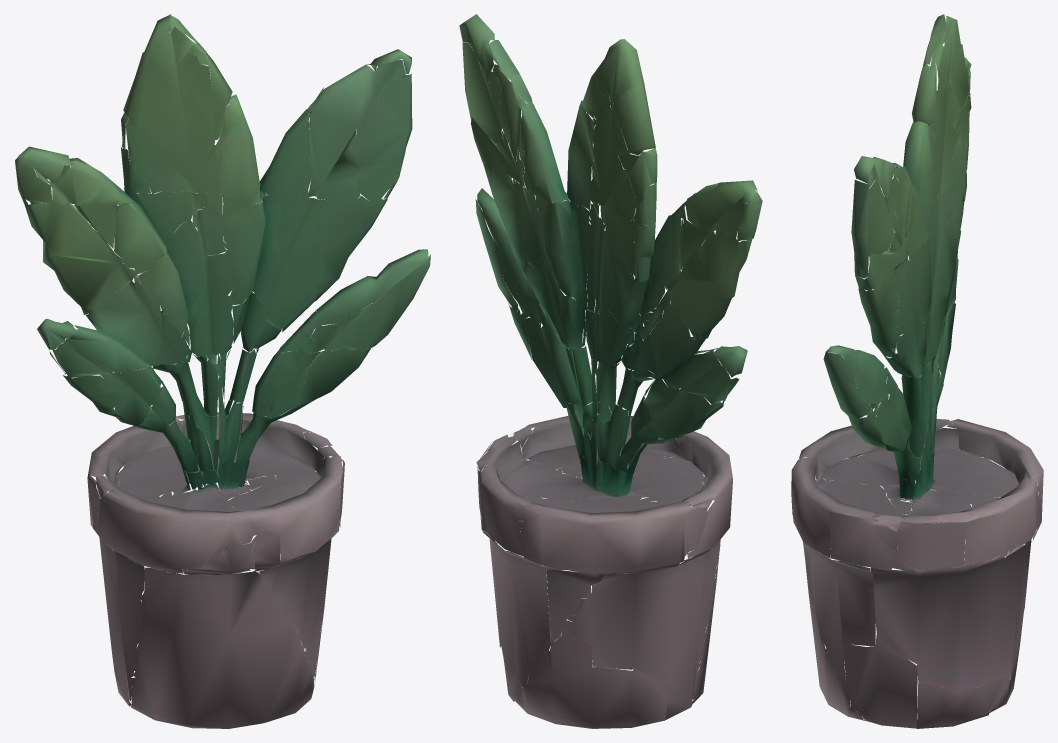
Rendered from prop13.glb.
The picture shows the model from 3 angles, left to right: view 1: azimuth 30°, elevation 25°; view 2: azimuth 150°, elevation 25°; view 3: azimuth 270°, elevation 25°; orthographic projection.
Visible parts, largest first — view 1: tripo_node_e9adffa0-6fed-4a02-a21b-ab18d465e9b2; view 2: tripo_node_e9adffa0-6fed-4a02-a21b-ab18d465e9b2; view 3: tripo_node_e9adffa0-6fed-4a02-a21b-ab18d465e9b2.
Boxes of the visible parts, <box> form: tripo_node_e9adffa0-6fed-4a02-a21b-ab18d465e9b2: <box>15,14,430,728</box>; tripo_node_e9adffa0-6fed-4a02-a21b-ab18d465e9b2: <box>459,14,762,728</box>; tripo_node_e9adffa0-6fed-4a02-a21b-ab18d465e9b2: <box>791,14,1043,728</box>.
Bounding box in the file's own units: 0.5447 × 1 × 0.3469.
Materials: 1 (1 with a texture image).
